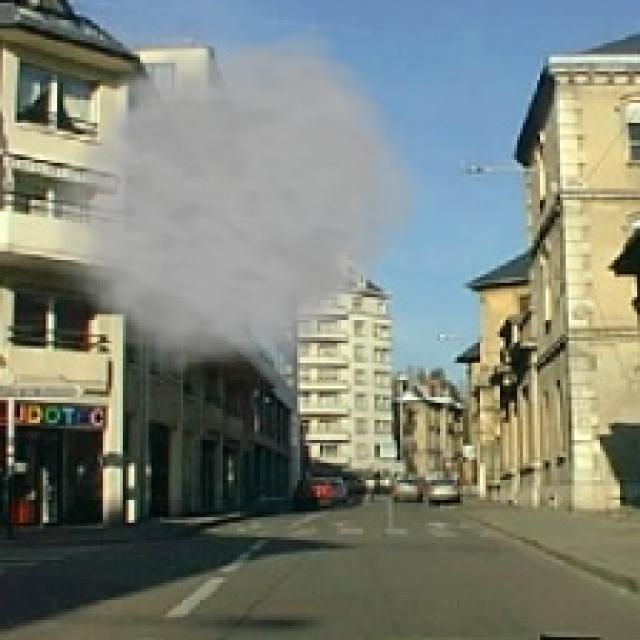Smoke: (28, 17, 434, 377)
